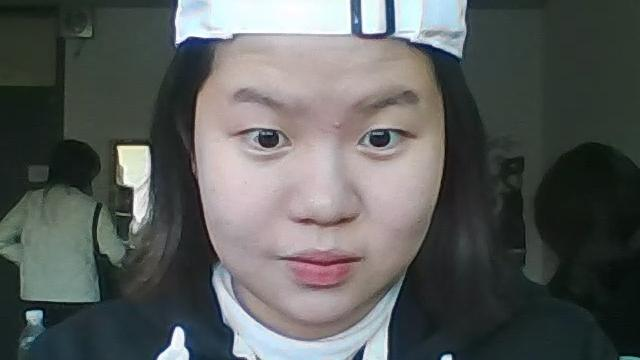eye: (369, 129, 390, 147), (260, 129, 278, 147)
iris: (358, 129, 404, 151), (246, 128, 292, 148)
